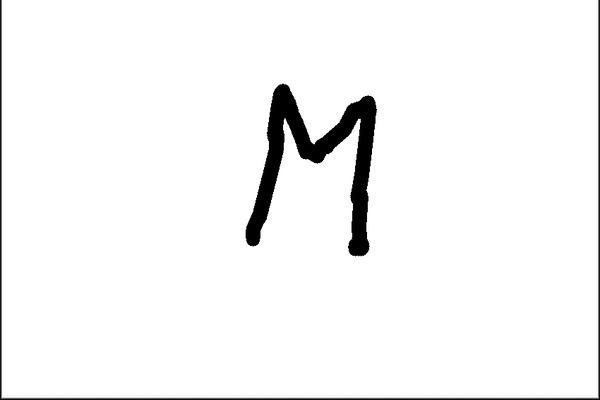M: (242, 78, 371, 258)
